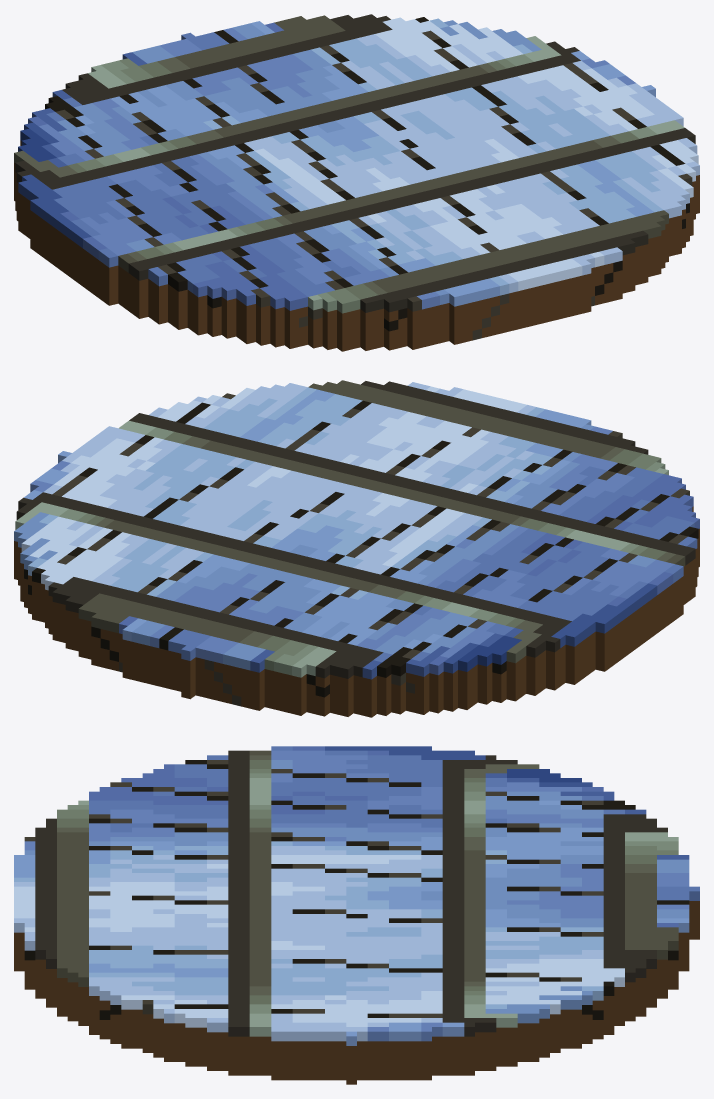
Rendered from Tai_28.obj.
The picture shows the model from 3 angles, top to bottom: view 1: azimuth 30°, elevation 25°; view 2: azimuth 150°, elevation 25°; view 3: azimuth 270°, elevation 25°; orthographic projection.
Bounding box in the file's own units: 6.4 × 0.5 × 6.4.
Materials: 1 (1 with a texture image).
